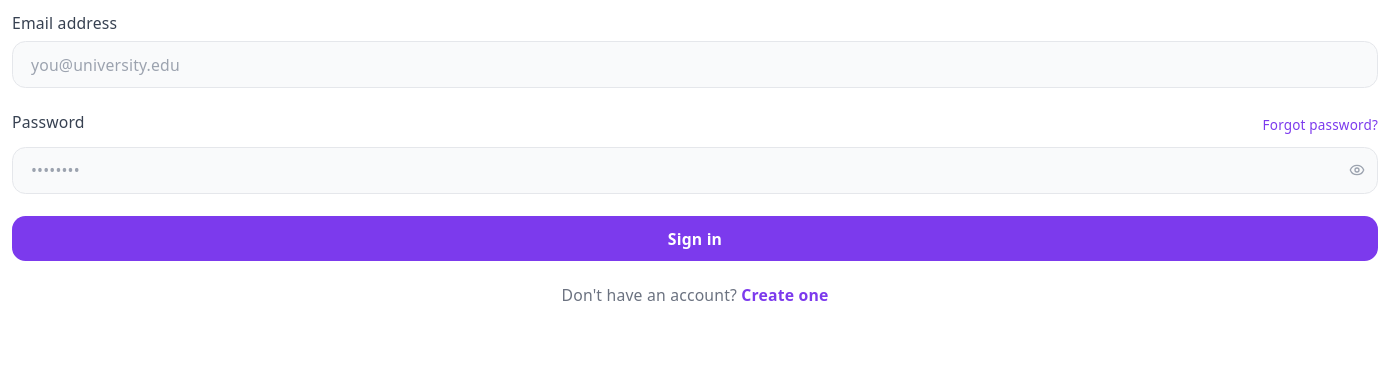
Scenario: LoginForm › shows an email format error when a non-email is entered
This screenshot has width=1390, height=367.
Step 1. Type "notanemail" into the field with placeholder "you@university.edu" → [695, 65], box [12, 41, 1378, 88]
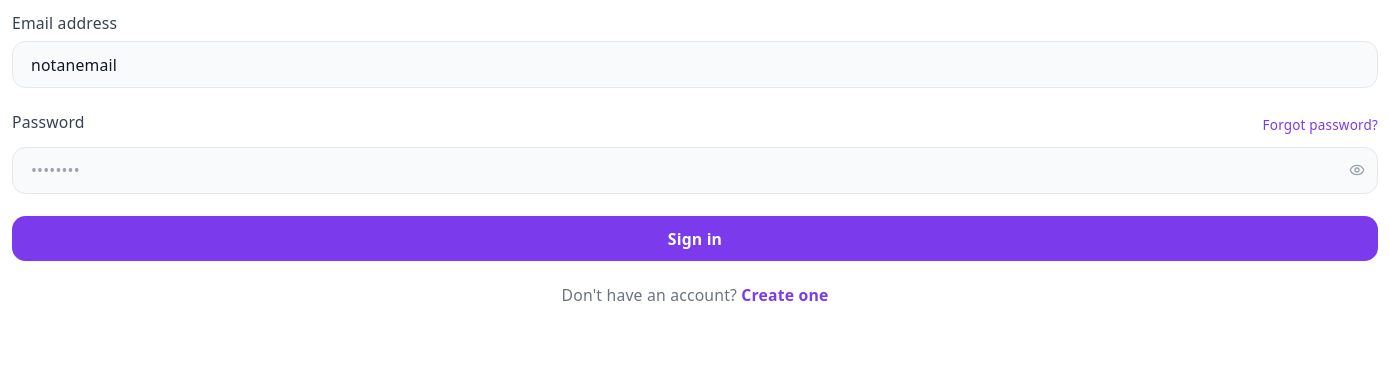
Step 2. Click the button "Sign in" → [695, 239], box [12, 216, 1378, 261]
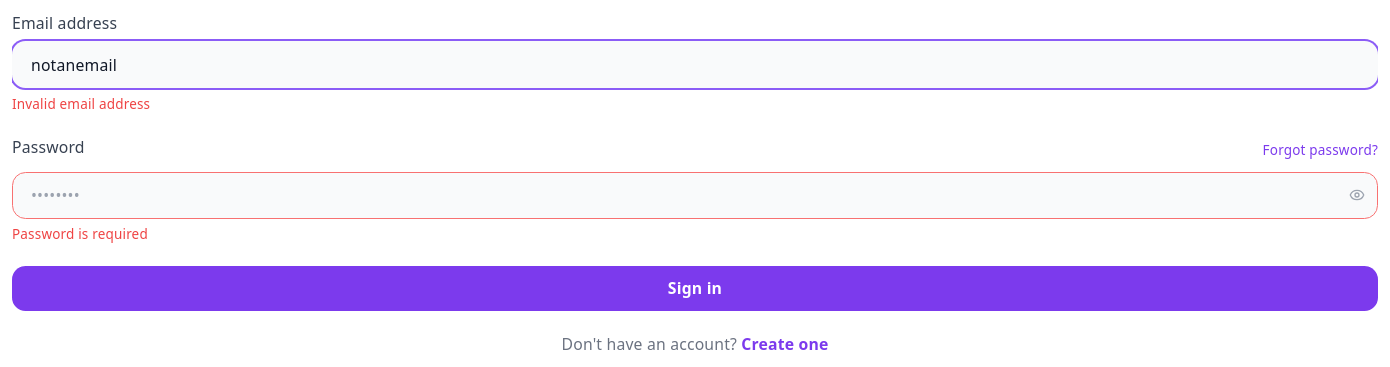
Result: the text "Invalid email address" is shown at [12, 95, 150, 113]
